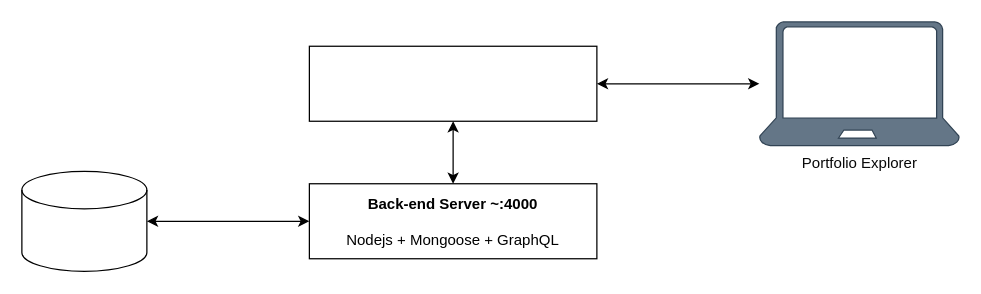
This 981x294 diagram has some shape labels left out. The shapes that lost their labels are listed below. From the top down, each one's centre as x and y in pixels, then its label:
At pixel 452 83: "Website Server ~:8080 Apollo+Hapi".
At pixel 84 220: "MongoDB Atlas".
